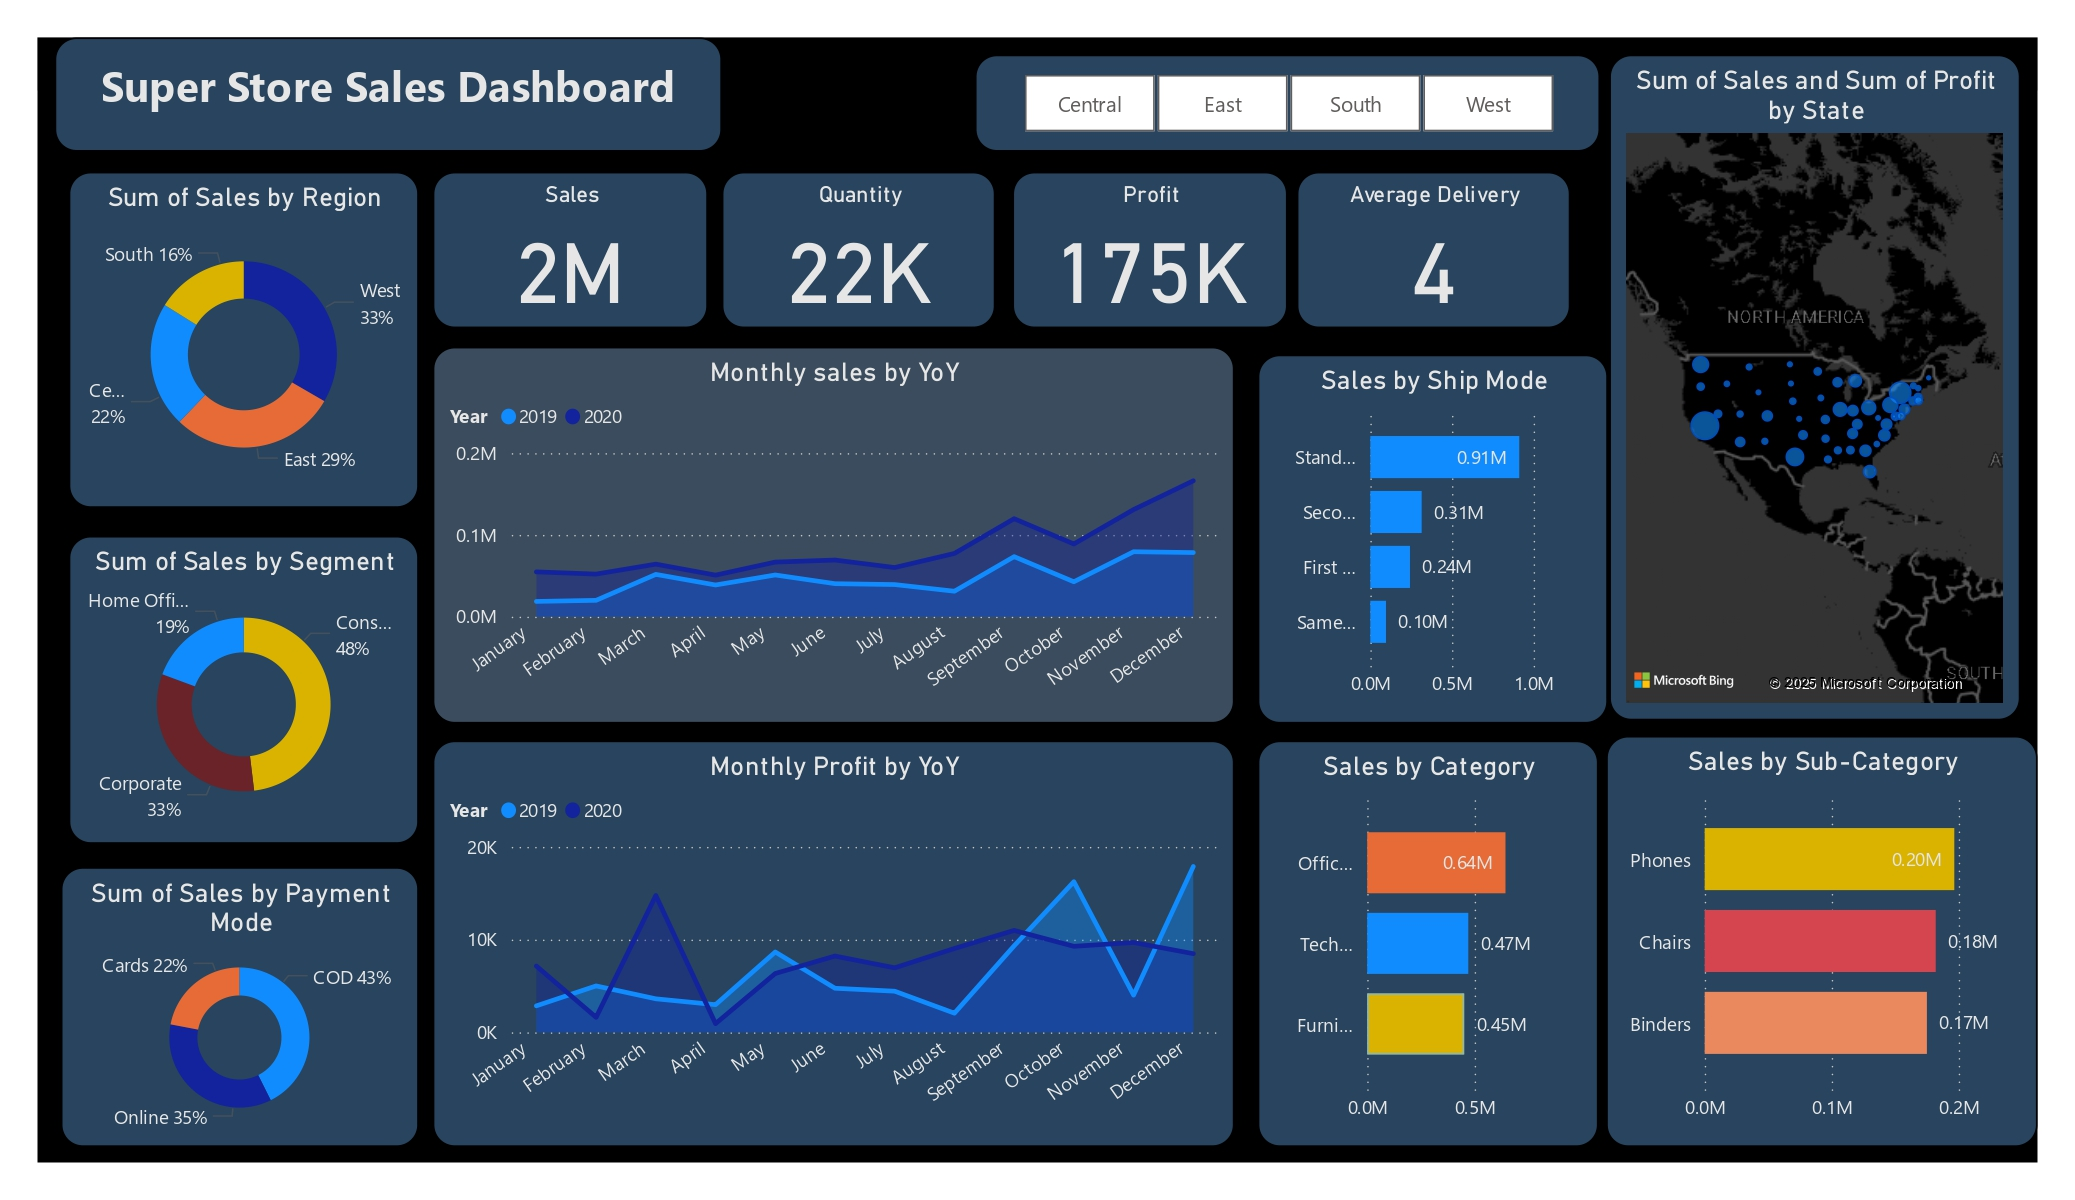

The page's visual inventory and layout, read from the dashboard file:
{"tool":"powerbi","page":{"name":"Page 1","canvas":[1280,720],"ordinal":0},"visuals":[{"type":"barChart","title":" Sales by Category","fields":{"Category":["Sheet1.Category"],"Y":["Sum(Sheet1.Sales)"]},"box":[781.3,449.7,218,260.4],"z":0},{"type":"barChart","title":" Sales by Sub-Category","fields":{"Category":["Sheet1.Sub-Category"],"Y":["Sum(Sheet1.Sales)"]},"box":[1003.9,446.7,275.6,263.5],"z":1000},{"type":"barChart","title":" Sales by Ship Mode","fields":{"Category":["Sheet1.Ship Mode"],"Y":["Sum(Sheet1.Sales)"]},"box":[781.3,202.9,224.1,236.2],"z":2000},{"type":"areaChart","title":"Monthly sales by YoY","fields":{"Category":["Sheet1.Order Date.Variation.Date Hierarchy.Month","Sheet1.Order Date.Variation.Date Hierarchy.Day"],"Y":["Sum(Sheet1.Sales)"],"Series":["Sheet1.Order Date.Variation.Date Hierarchy.Year"]},"box":[252.9,198.4,513.3,240.8],"z":3000},{"type":"areaChart","title":"Monthly Profit by YoY","fields":{"Category":["Sheet1.Order Date.Variation.Date Hierarchy.Month","Sheet1.Order Date.Variation.Date Hierarchy.Day"],"Series":["Sheet1.Order Date.Variation.Date Hierarchy.Year"],"Y":["Sum(Sheet1.Profit)"]},"box":[252.9,449.7,513.3,260.4],"z":4000},{"type":"donutChart","fields":{"Category":["Sheet1.Segment"],"Y":["Sum(Sheet1.Sales)"]},"box":[19.7,319.5,224.1,196.8],"z":5000},{"type":"donutChart","fields":{"Category":["Sheet1.Payment Mode"],"Y":["Sum(Sheet1.Sales)"]},"box":[15.1,531.5,228.6,178.7],"z":6000},{"type":"donutChart","fields":{"Category":["Sheet1.Region"],"Y":["Sum(Sheet1.Sales)"]},"box":[19.7,86.3,224.1,215],"z":7000},{"type":"slicer","fields":{"Values":["Sheet1.Region"]},"box":[600.1,11.1,399.8,62.1],"z":8000},{"type":"textbox","box":[10.6,0,427,72.7],"z":9000},{"type":"card","title":"Sales","fields":{"Values":["Sum(Sheet1.Sales)"]},"box":[252.9,86.3,175.6,99.9],"z":10000},{"type":"card","title":"Quantity","fields":{"Values":["Sum(Sheet1.Quantity)"]},"box":[437.6,86.3,175.6,99.9],"z":11000},{"type":"card","title":"Profit","fields":{"Values":["Sum(Sheet1.Profit)"]},"box":[623.9,86.3,175.6,99.9],"z":12000},{"type":"card","title":"Average Delivery","fields":{"Values":["Avg(Sheet1.AvgDelivery)"]},"box":[805.6,86.3,175.6,99.9],"z":13000},{"type":"map","fields":{"Category":["Sheet1.State"],"Size":["Sum(Sheet1.Sales)"]},"box":[1005.9,10.6,263,426.5],"z":14000}]}

Visuals, with their boxes in screenshot pixels (x1, y1, x2, y2):
" Sales by Category" barChart: [x1=1258, y1=740, x2=1599, y2=1147]
" Sales by Sub-Category" barChart: [x1=1606, y1=735, x2=2037, y2=1147]
" Sales by Ship Mode" barChart: [x1=1258, y1=355, x2=1608, y2=724]
"Monthly sales by YoY" areaChart: [x1=433, y1=348, x2=1235, y2=724]
"Monthly Profit by YoY" areaChart: [x1=433, y1=740, x2=1235, y2=1147]
donutChart - Sheet1.Segment x Sum(Sheet1.Sales): [x1=68, y1=537, x2=418, y2=844]
donutChart - Sheet1.Payment Mode x Sum(Sheet1.Sales): [x1=61, y1=868, x2=418, y2=1147]
donutChart - Sheet1.Region x Sum(Sheet1.Sales): [x1=68, y1=172, x2=418, y2=508]
slicer - Sheet1.Region: [x1=975, y1=55, x2=1600, y2=152]
textbox: [x1=54, y1=38, x2=721, y2=151]
"Sales" card: [x1=433, y1=172, x2=707, y2=328]
"Quantity" card: [x1=721, y1=172, x2=996, y2=328]
"Profit" card: [x1=1012, y1=172, x2=1287, y2=328]
"Average Delivery" card: [x1=1296, y1=172, x2=1571, y2=328]
map - Sheet1.State x Sum(Sheet1.Sales): [x1=1609, y1=54, x2=2020, y2=720]
